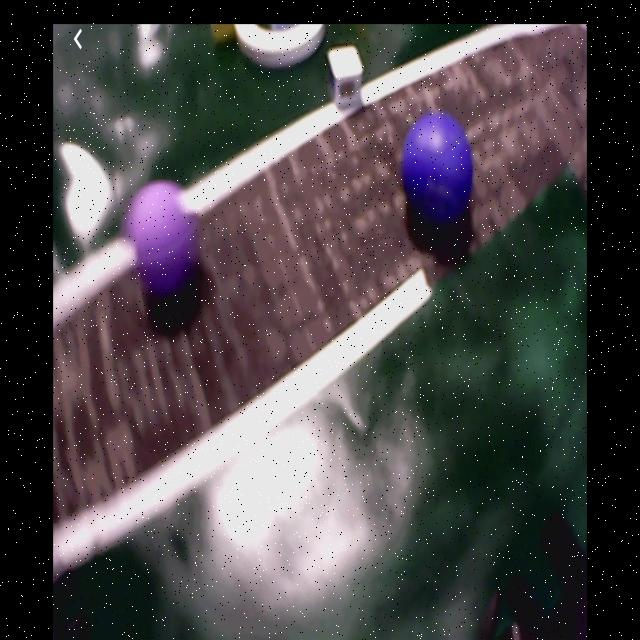ball: (131, 180, 203, 287), (403, 119, 473, 215)
